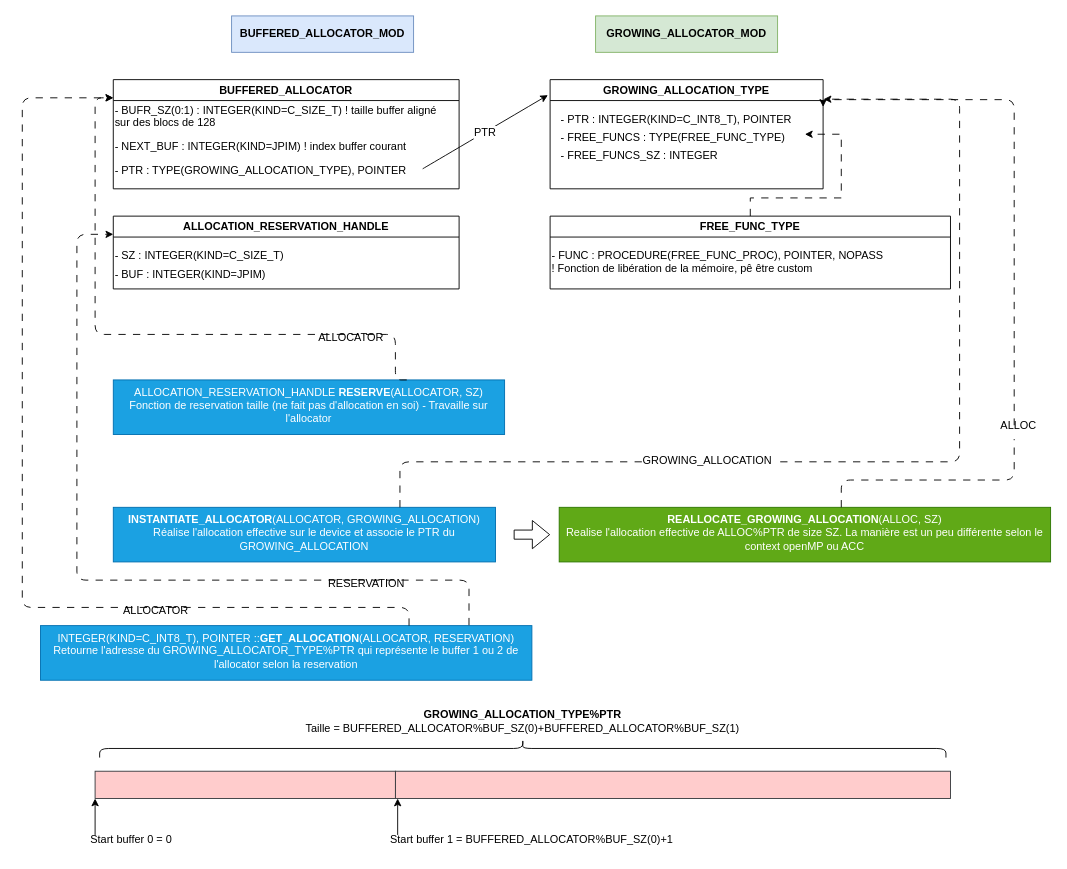
Image size: 1067x869. Some labels were removed from this diagram. The shapes that lost their labels are listed below. From the top down, each one's centre as x and y in pixels, then its label:
(x=244, y=784): Buffer logique 0 (handle 0)
(x=672, y=784): Buffer logique 1 (handle 1)
